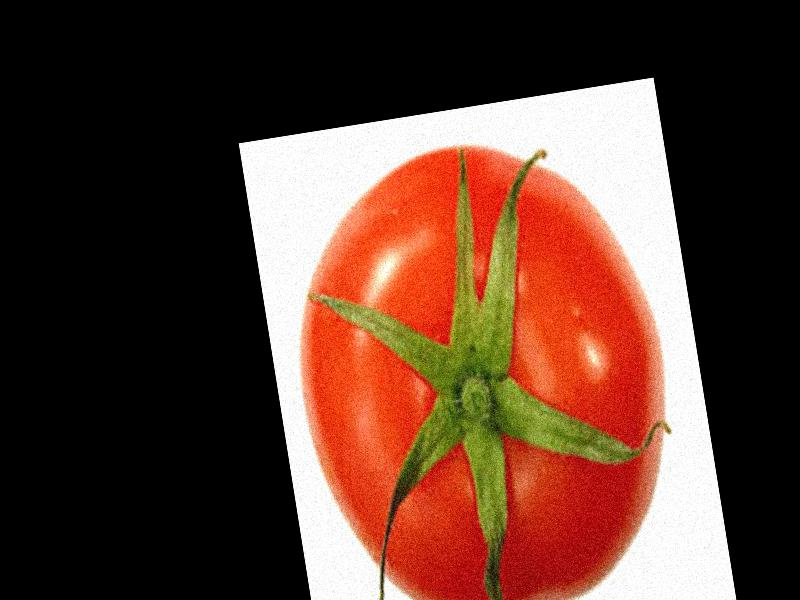Tomato: (268, 117, 697, 600)
